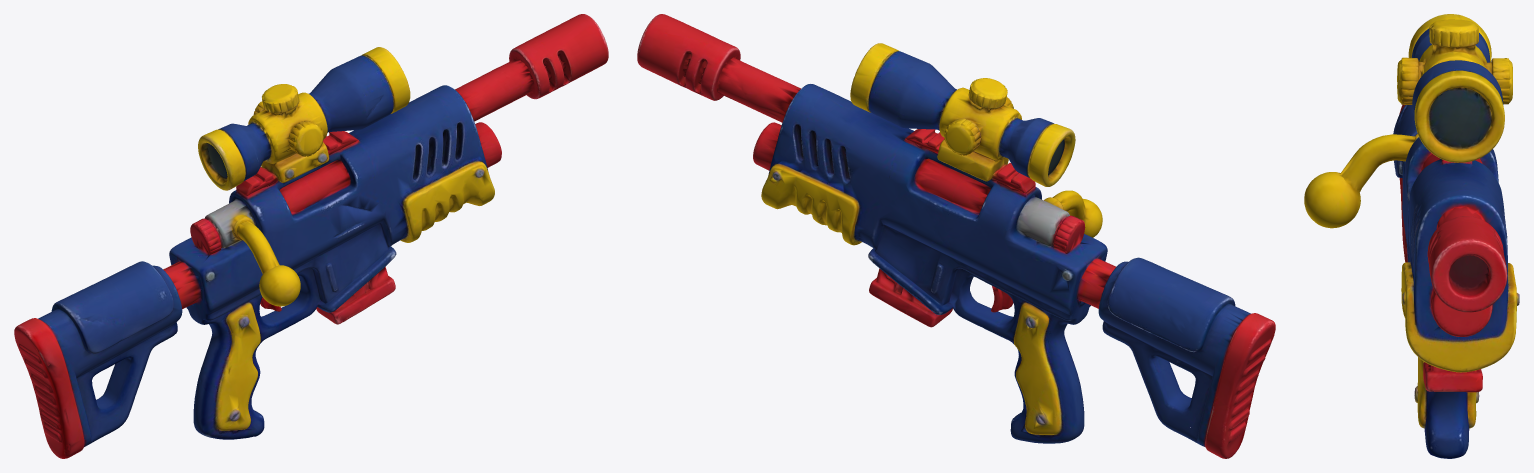
The model's file is toy_sniper.glb.
The picture shows the model from 3 angles, left to right: view 1: azimuth 30°, elevation 25°; view 2: azimuth 150°, elevation 25°; view 3: azimuth 270°, elevation 25°; orthographic projection. The views are drawn at different scales.
Parts seen in each view (by area): view 1: tripo_node_d5c03414-1c4c-4b55-b958-1b580dbef7b0; view 2: tripo_node_d5c03414-1c4c-4b55-b958-1b580dbef7b0; view 3: tripo_node_d5c03414-1c4c-4b55-b958-1b580dbef7b0.
Boxes of the visible parts, box(x1,y1,x2,y2) form: tripo_node_d5c03414-1c4c-4b55-b958-1b580dbef7b0: box(14, 14, 608, 458); tripo_node_d5c03414-1c4c-4b55-b958-1b580dbef7b0: box(637, 14, 1275, 458); tripo_node_d5c03414-1c4c-4b55-b958-1b580dbef7b0: box(1304, 14, 1519, 458).
Size of the model in its own units: 0.9806 by 0.5518 by 0.2282.
1 material, 1 textured.
